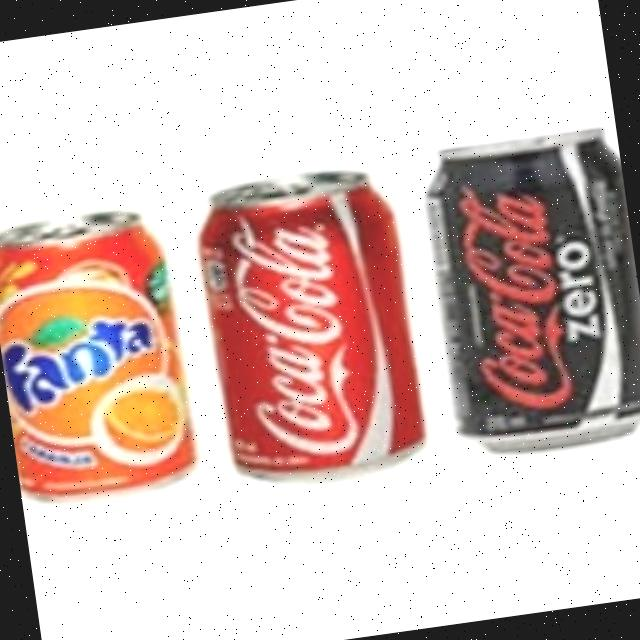Metal: (187, 159, 433, 496), (409, 119, 640, 462), (0, 202, 199, 508)
